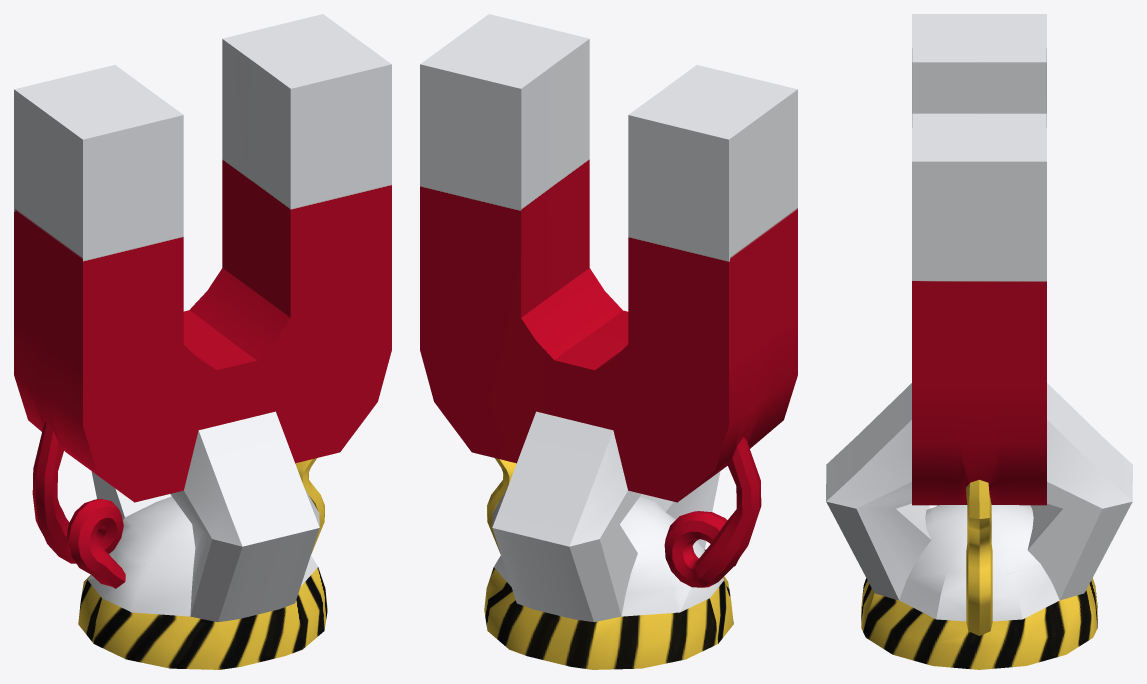
Rendered from Hazard_Magnet.fbx.
3 views of the same model, side by side, from view 1: azimuth 30°, elevation 25°; view 2: azimuth 150°, elevation 25°; view 3: azimuth 270°, elevation 25° (orthographic). The views are drawn at different scales.
Visible parts, largest first — view 1: Base; view 2: Base; view 3: Base.
Boxes of the visible parts, x1,y1,x2,y2 form: Base: (14, 14, 391, 669); Base: (420, 14, 797, 669); Base: (826, 14, 1132, 669).
Bounding box in the file's own units: 3.18 × 5.24 × 2.75.
2 materials, 2 textured.
